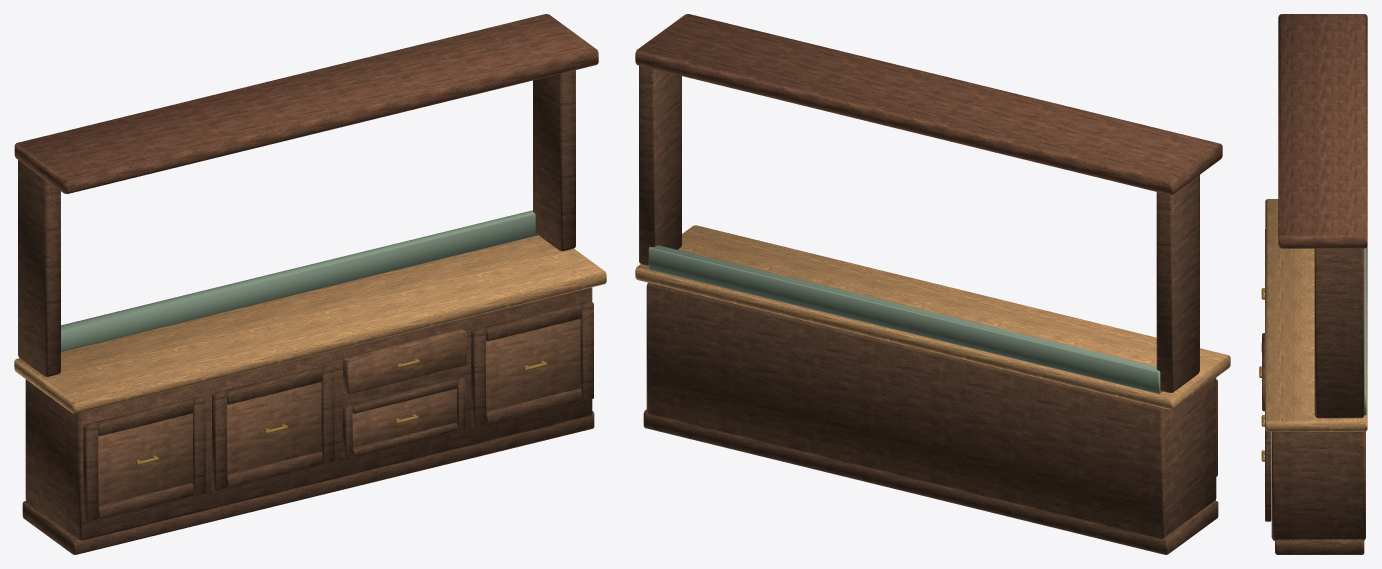
The model's file is asset_062_back_counter_storage_cabinets.glb.
3 renders of one model, left to right at view 1: azimuth 30°, elevation 25°; view 2: azimuth 150°, elevation 25°; view 3: azimuth 270°, elevation 25°, orthographic. The views are drawn at different scales.
Parts seen in each view (by area): view 1: MESH_WallCrown, MESH_Countertop, MESH_StaticCabinetFrontSet, MESH_BaseCarcass, MESH_OpenHutchUprightSet, MESH_Backsplash, MESH_AnimatedBaseCabinetDoor, MESH_BaseToeKick, MESH_AnimatedBaseDrawer; view 2: MESH_BaseCarcass, MESH_WallCrown, MESH_Countertop, MESH_OpenHutchUprightSet, MESH_Backsplash, MESH_BaseToeKick; view 3: MESH_WallCrown, MESH_Countertop, MESH_BaseCarcass, MESH_OpenHutchUprightSet, MESH_BaseToeKick, MESH_StaticCabinetFrontSet, MESH_Backsplash, MESH_AnimatedBaseDrawer.
Boxes of the visible parts, bbox=[...] form: MESH_WallCrown: bbox=[14, 14, 598, 193]; MESH_Countertop: bbox=[14, 235, 606, 413]; MESH_StaticCabinetFrontSet: bbox=[212, 301, 593, 490]; MESH_BaseCarcass: bbox=[25, 287, 592, 540]; MESH_OpenHutchUprightSet: bbox=[18, 70, 575, 376]; MESH_Backsplash: bbox=[61, 210, 538, 351]; MESH_AnimatedBaseCabinetDoor: bbox=[83, 396, 205, 522]; MESH_BaseToeKick: bbox=[22, 411, 594, 554]; MESH_AnimatedBaseDrawer: bbox=[343, 329, 466, 394]; MESH_BaseCarcass: bbox=[646, 282, 1216, 539]; MESH_WallCrown: bbox=[635, 14, 1222, 194]; MESH_Countertop: bbox=[635, 225, 1230, 409]; MESH_OpenHutchUprightSet: bbox=[639, 65, 1199, 392]; MESH_Backsplash: bbox=[648, 245, 1162, 393]; MESH_BaseToeKick: bbox=[643, 409, 1218, 554]; MESH_WallCrown: bbox=[1278, 14, 1367, 248]; MESH_Countertop: bbox=[1265, 199, 1367, 431]; MESH_BaseCarcass: bbox=[1271, 431, 1365, 540]; MESH_OpenHutchUprightSet: bbox=[1314, 248, 1364, 418]; MESH_BaseToeKick: bbox=[1275, 539, 1364, 554]; MESH_StaticCabinetFrontSet: bbox=[1265, 283, 1271, 521]; MESH_Backsplash: bbox=[1364, 248, 1366, 415]; MESH_AnimatedBaseDrawer: bbox=[1262, 333, 1265, 411].
Size of the model in its own units: 3.2 by 2.15 by 0.656.
7 materials, 5 textured.
